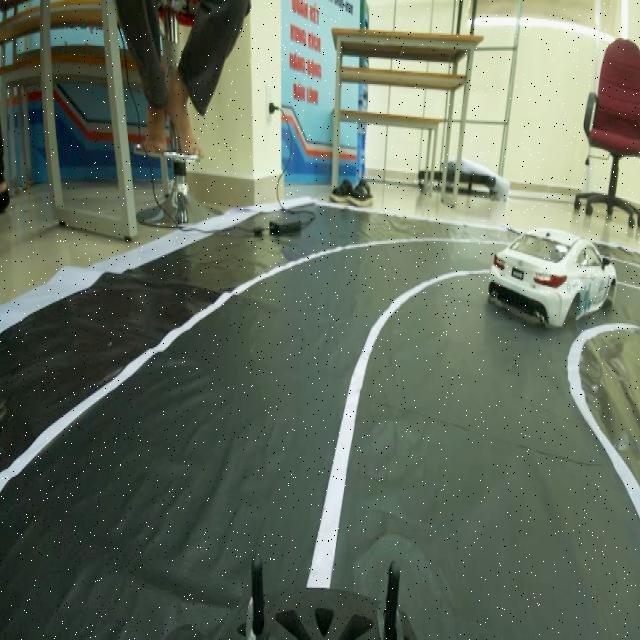car: (485, 203, 621, 332)
